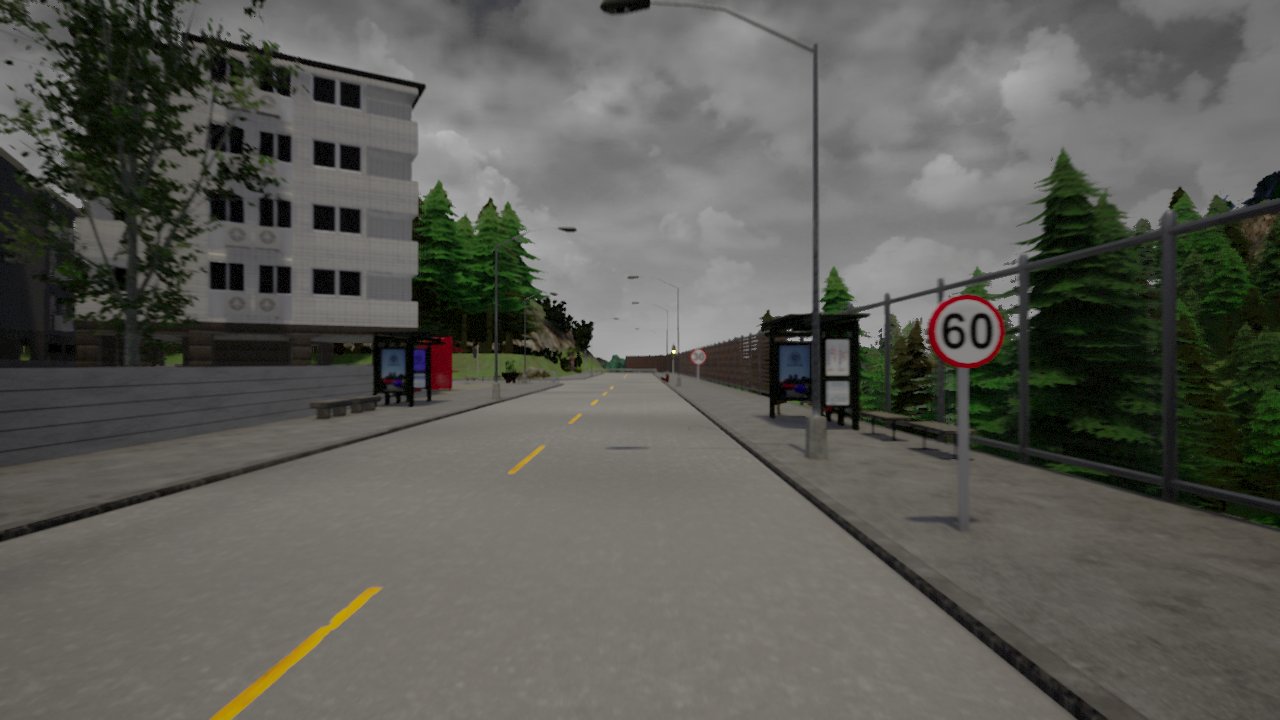yellow: (671, 345, 677, 360)
